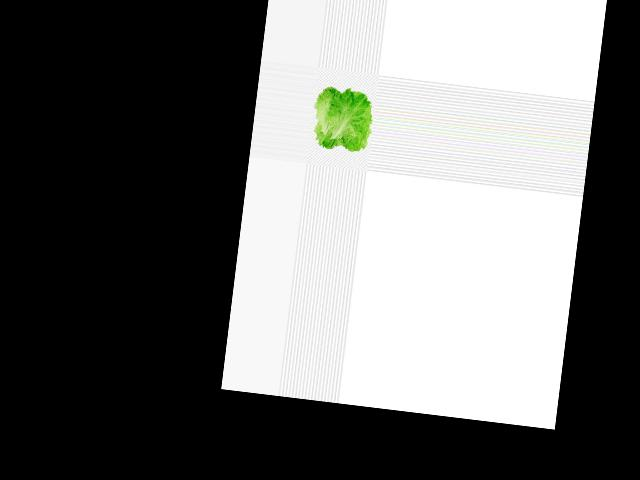lettuce: (307, 80, 377, 158)
